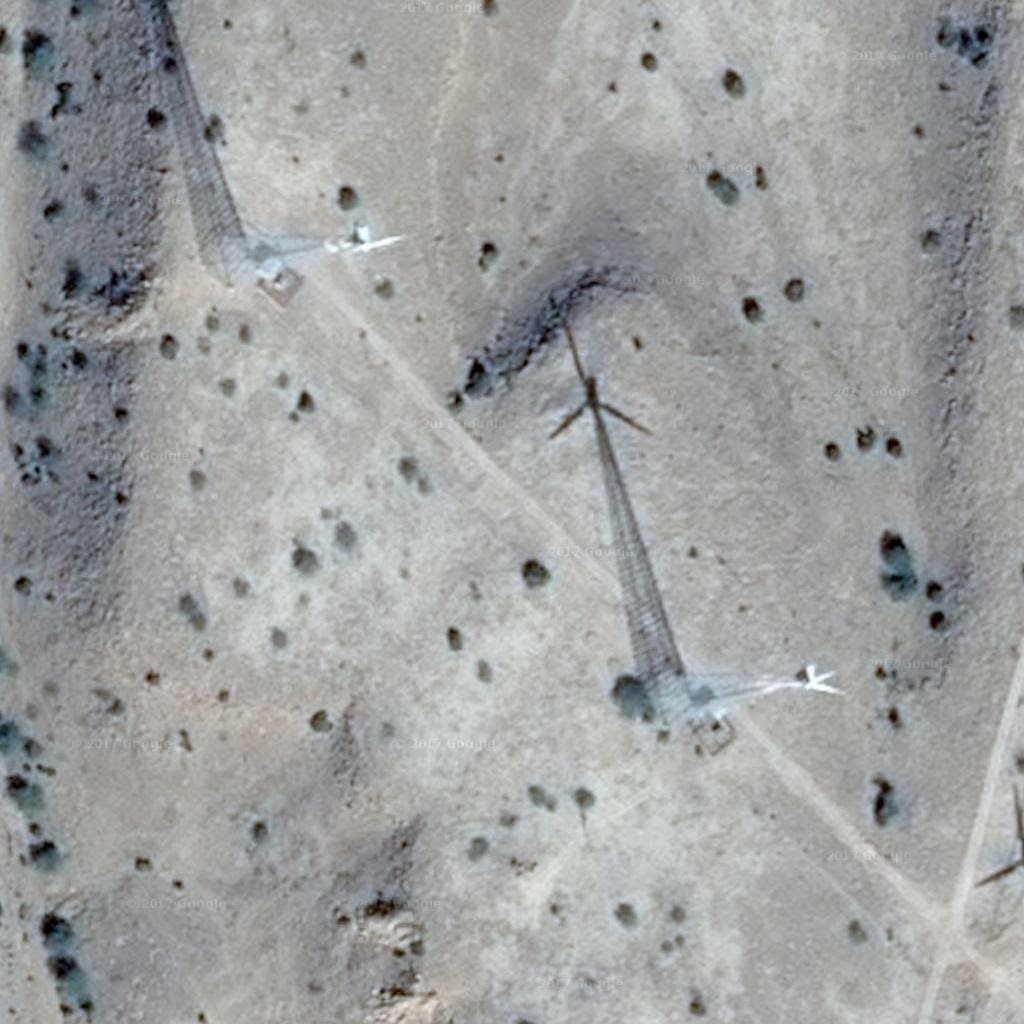Windmill: (543, 312, 709, 709)
